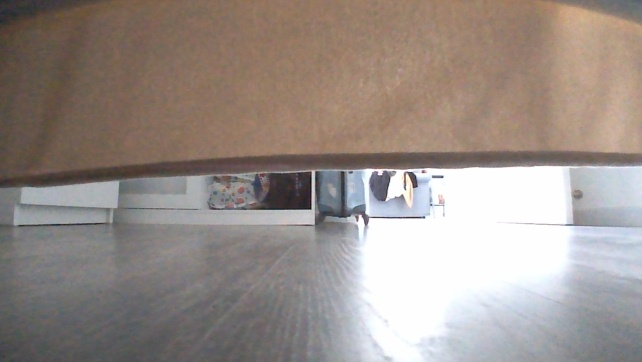sofa1: (366, 170, 432, 218)
